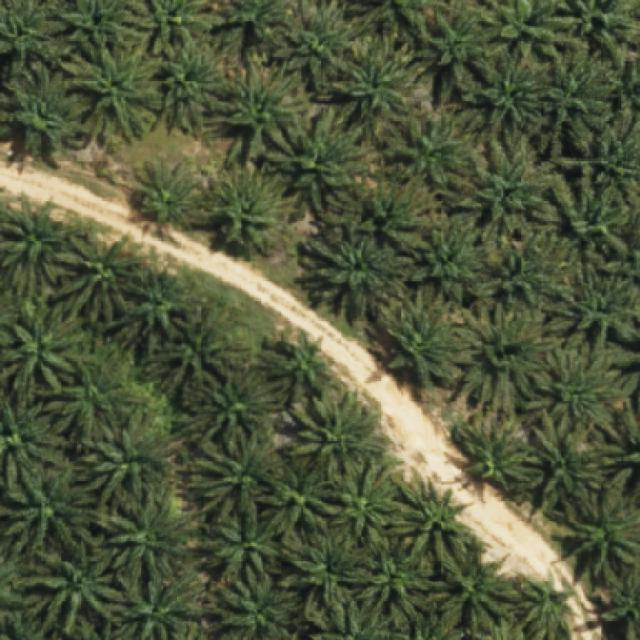Kelapa_Sawit: (454, 300, 566, 418), (262, 106, 370, 225), (456, 133, 564, 247), (324, 29, 425, 145), (217, 44, 311, 168), (49, 227, 162, 328), (519, 408, 618, 523), (93, 482, 198, 590), (182, 426, 293, 526), (61, 34, 162, 143), (382, 475, 492, 574), (18, 538, 128, 636), (520, 344, 628, 442), (425, 534, 524, 637), (534, 38, 623, 151), (297, 232, 408, 322), (533, 162, 633, 261), (178, 360, 282, 454), (76, 412, 175, 510), (412, 8, 506, 110), (282, 388, 388, 478), (197, 163, 301, 252), (376, 302, 481, 388), (146, 300, 234, 402), (34, 363, 138, 448), (350, 170, 448, 258), (469, 44, 560, 138), (405, 210, 492, 307), (154, 32, 235, 136), (278, 532, 373, 620), (191, 510, 283, 598), (255, 460, 347, 543), (392, 112, 478, 199), (114, 264, 195, 356), (344, 546, 430, 628), (451, 413, 543, 489), (321, 458, 399, 544), (563, 496, 640, 582), (255, 326, 334, 408), (131, 153, 200, 224), (486, 248, 548, 310)
